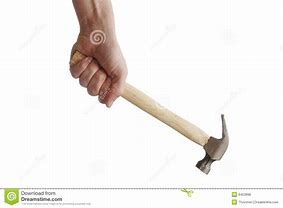hammer: (68, 44, 231, 176)
